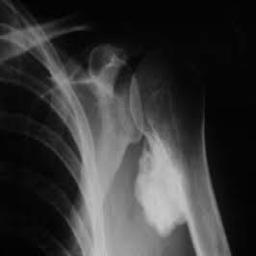cancer: (135, 124, 189, 232)
